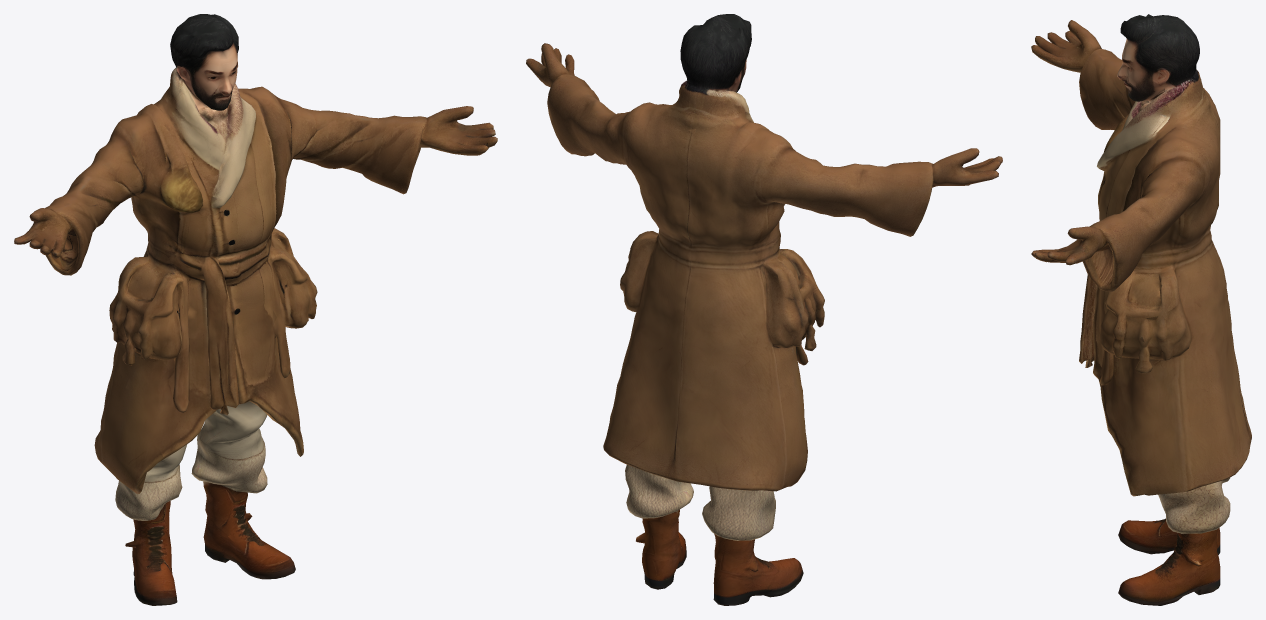
Rendered from refine.fbx.
3 renders of one model, left to right at view 1: azimuth 30°, elevation 25°; view 2: azimuth 150°, elevation 25°; view 3: azimuth 270°, elevation 25°, orthographic.
Visible parts, largest first — view 1: Mesh_0; view 2: Mesh_0; view 3: Mesh_0.
Boxes of the visible parts, <box> form: Mesh_0: <box>14,14,497,605</box>; Mesh_0: <box>526,14,1002,605</box>; Mesh_0: <box>1031,14,1251,605</box>.
Size of the model in its own units: 169 by 191 by 68.49.
1 material, 1 textured.
